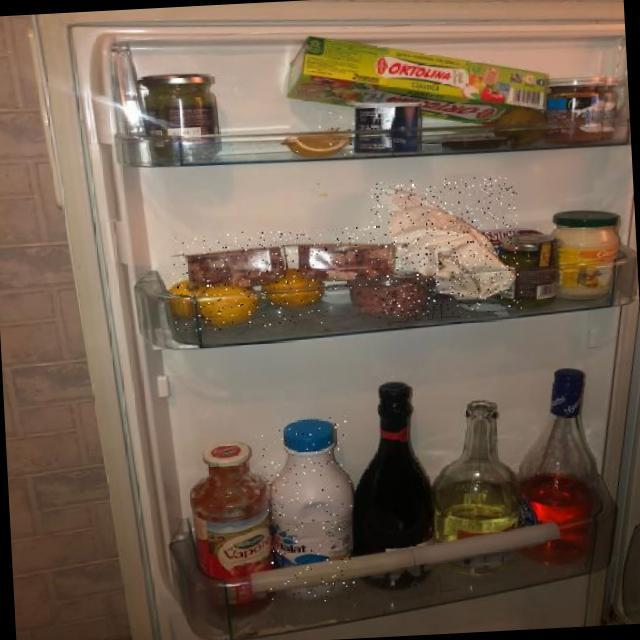Mantequilla: (370, 176, 523, 319)
